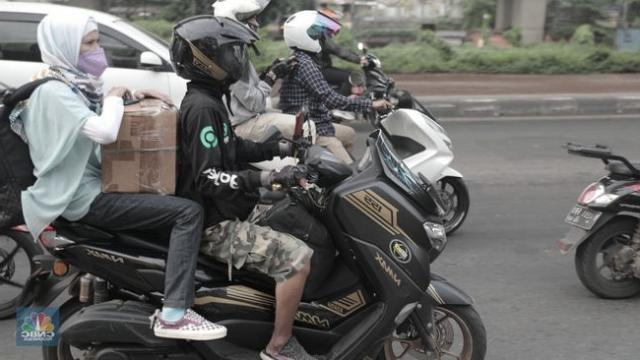helm: (169, 14, 263, 92), (284, 9, 342, 57), (214, 2, 269, 38)
motor: (27, 129, 485, 360), (307, 93, 474, 242), (553, 138, 640, 306)
non-helm: (36, 5, 111, 85)
